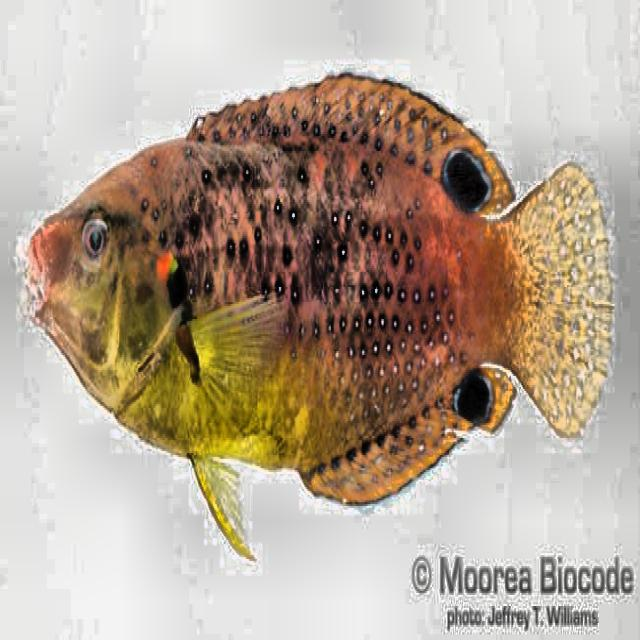fish: (18, 70, 616, 568)
